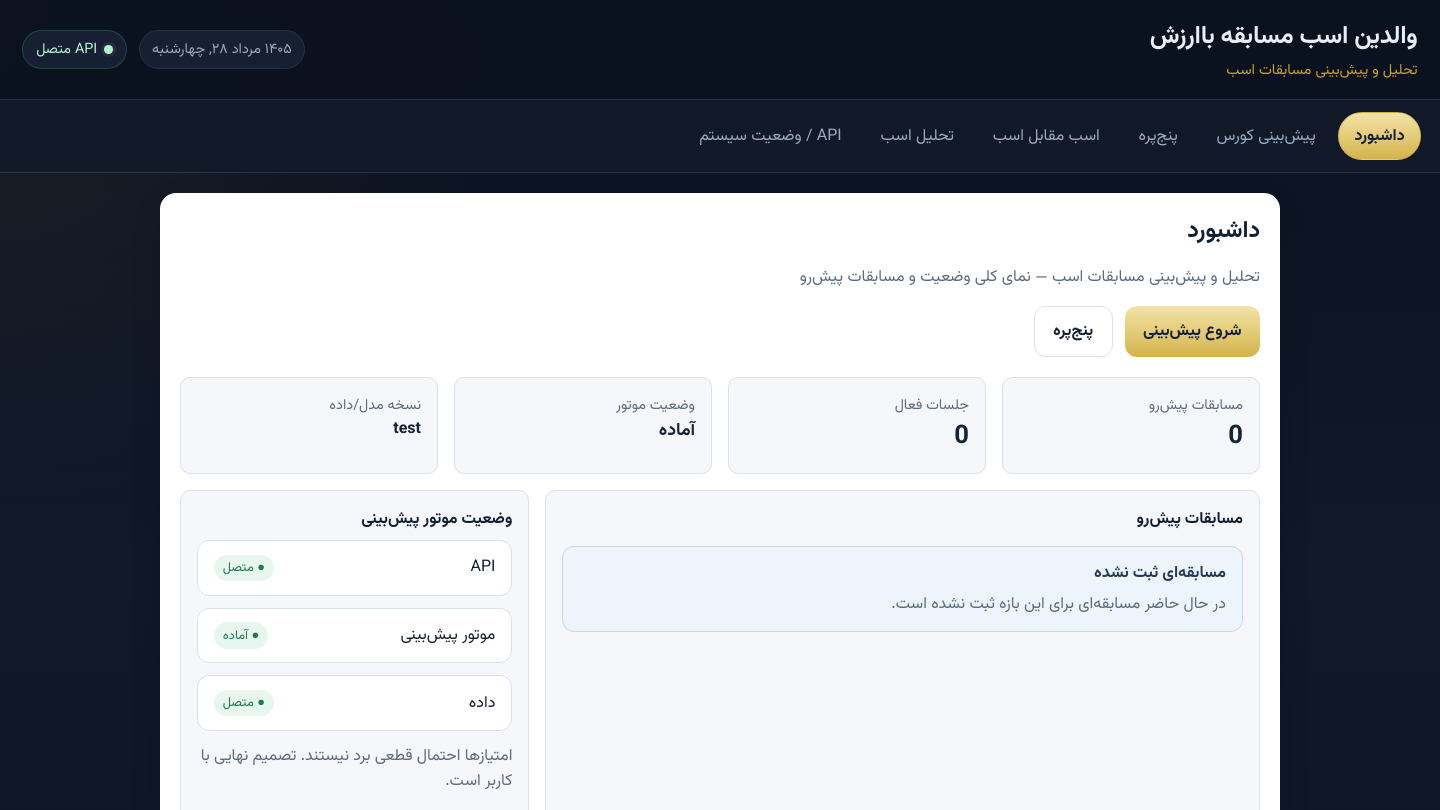
Test: App dashboard › keeps raw API response under system status only
Check: the text "پاسخ خام API" is not shown
Click the button "API / وضعیت سیستم" at (770, 136), box [683, 112, 858, 160]
(page scrolled)
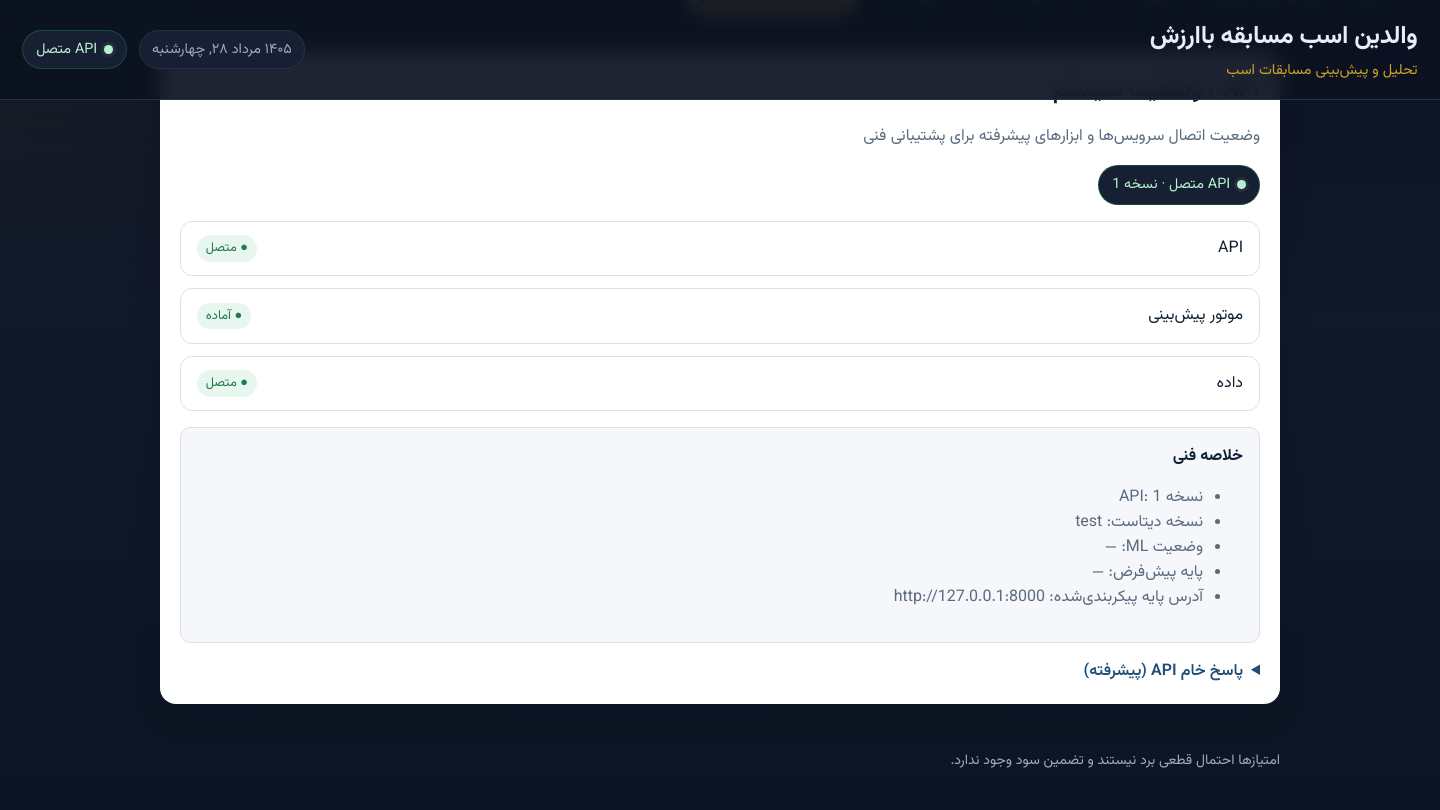
Check: the heading "پاسخ خام API (پیشرفته)" is shown, box [1084, 659, 1243, 684]
